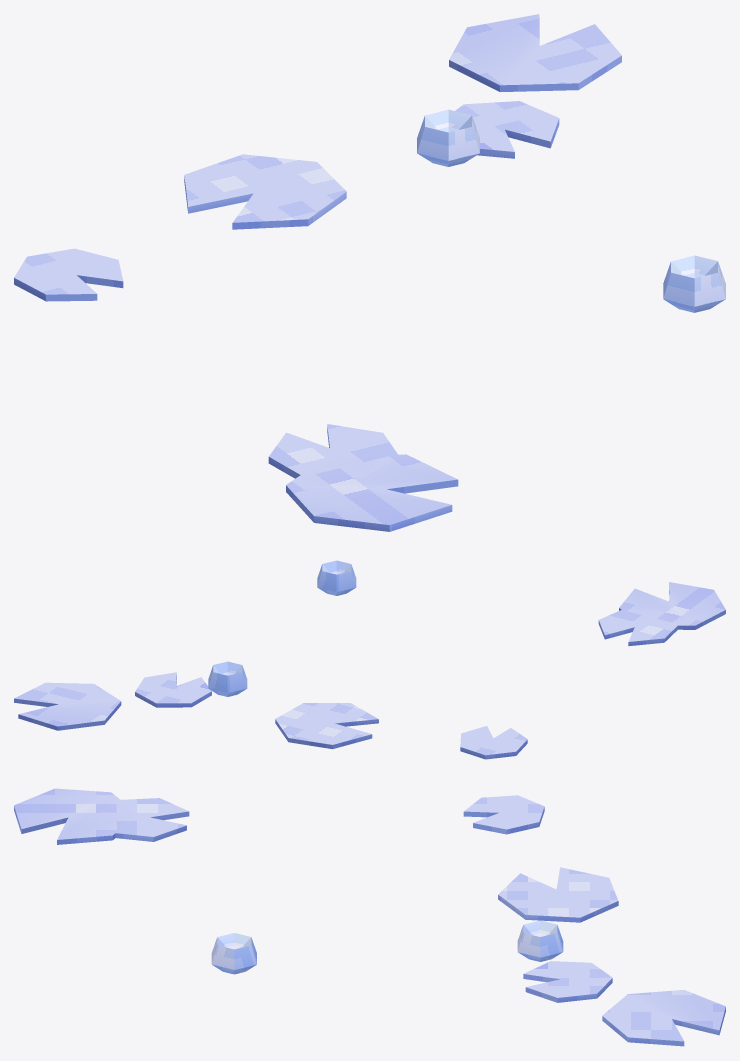
File: lake.lilies.glb
3 renders of one model, top to bottom at view 1: azimuth 30°, elevation 25°; view 2: azimuth 150°, elevation 25°; view 3: azimuth 270°, elevation 25°, orthographic. The views are drawn at different scales.
Visible parts, largest first — view 1: kit_pads, kit_blooms; view 2: kit_pads, kit_blooms; view 3: kit_pads, kit_blooms.
Part boxes in pixels (x1,y1,x2,y2): kit_pads: [14, 14, 621, 531]; kit_blooms: [417, 109, 725, 312]; kit_pads: [14, 582, 725, 759]; kit_blooms: [208, 560, 356, 696]; kit_pads: [14, 788, 725, 1046]; kit_blooms: [211, 920, 563, 974].
Size of the model in its own units: 2.73 by 0.155 by 3.25.
Materials: 2 (2 with a texture image).
